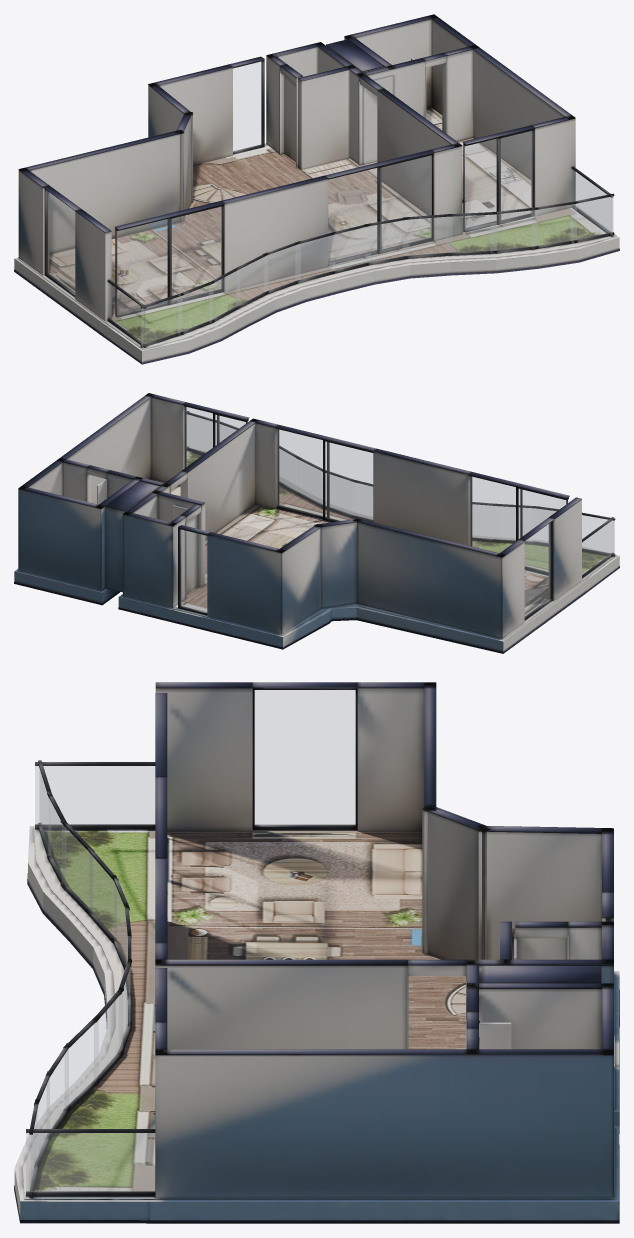
3 renders of one model, top to bottom at view 1: azimuth 30°, elevation 25°; view 2: azimuth 150°, elevation 25°; view 3: azimuth 270°, elevation 25°, orthographic. The views are drawn at different scales.
Visible parts, largest first — view 1: plan, glass0_m, glass1_m, glass2_m, glass4_m, glass3_m, railg5_m, railg6_m, railg4_m, railg3_m, railg7_m, railg2_m (+9 smaller); view 2: plan, glass1_m, glass0_m, glass4_m, glass3_m, glass2_m, railg1_m, railg14_m, railg12_m, railg2_m, railg7_m, railg6_m (+3 smaller); view 3: plan, glass3_m, railg0_m, railg1_m, railg5_m, railg12_m, railg6_m, railg11_m, railg4_m, railg13_m, railg10_m.
Part boxes in pixels (x1,y1,x2,y2): plan: (14,14,619,364); glass0_m: (116,207,221,314); glass1_m: (328,155,431,260); glass2_m: (464,131,532,229); glass4_m: (233,62,261,151); glass3_m: (47,191,74,293); railg5_m: (446,214,496,252); railg6_m: (403,217,452,255); railg4_m: (490,210,537,250); railg3_m: (531,204,576,246); railg7_m: (365,220,409,262); railg2_m: (570,196,613,240); plan: (14,393,619,653); glass1_m: (277,429,372,521); glass0_m: (470,476,568,571); glass4_m: (180,530,206,612); glass3_m: (525,523,550,617); glass2_m: (184,407,245,467); railg1_m: (582,520,612,574); railg14_m: (582,515,614,553); railg12_m: (499,507,533,540); railg2_m: (187,415,212,452); railg7_m: (322,472,351,514); railg6_m: (301,461,326,506); plan: (14,682,619,1223); glass3_m: (255,690,355,825); railg0_m: (26,1133,154,1191); railg1_m: (35,766,154,824); railg5_m: (65,1021,98,1109); railg12_m: (62,824,93,912); railg6_m: (94,992,122,1081); railg11_m: (89,853,116,941); railg4_m: (47,1049,68,1128); railg13_m: (48,798,65,885); railg10_m: (114,883,127,964).
Size of the model in its own units: 12.69 by 2.62 by 8.63.
Materials: 2 (1 with a texture image).
